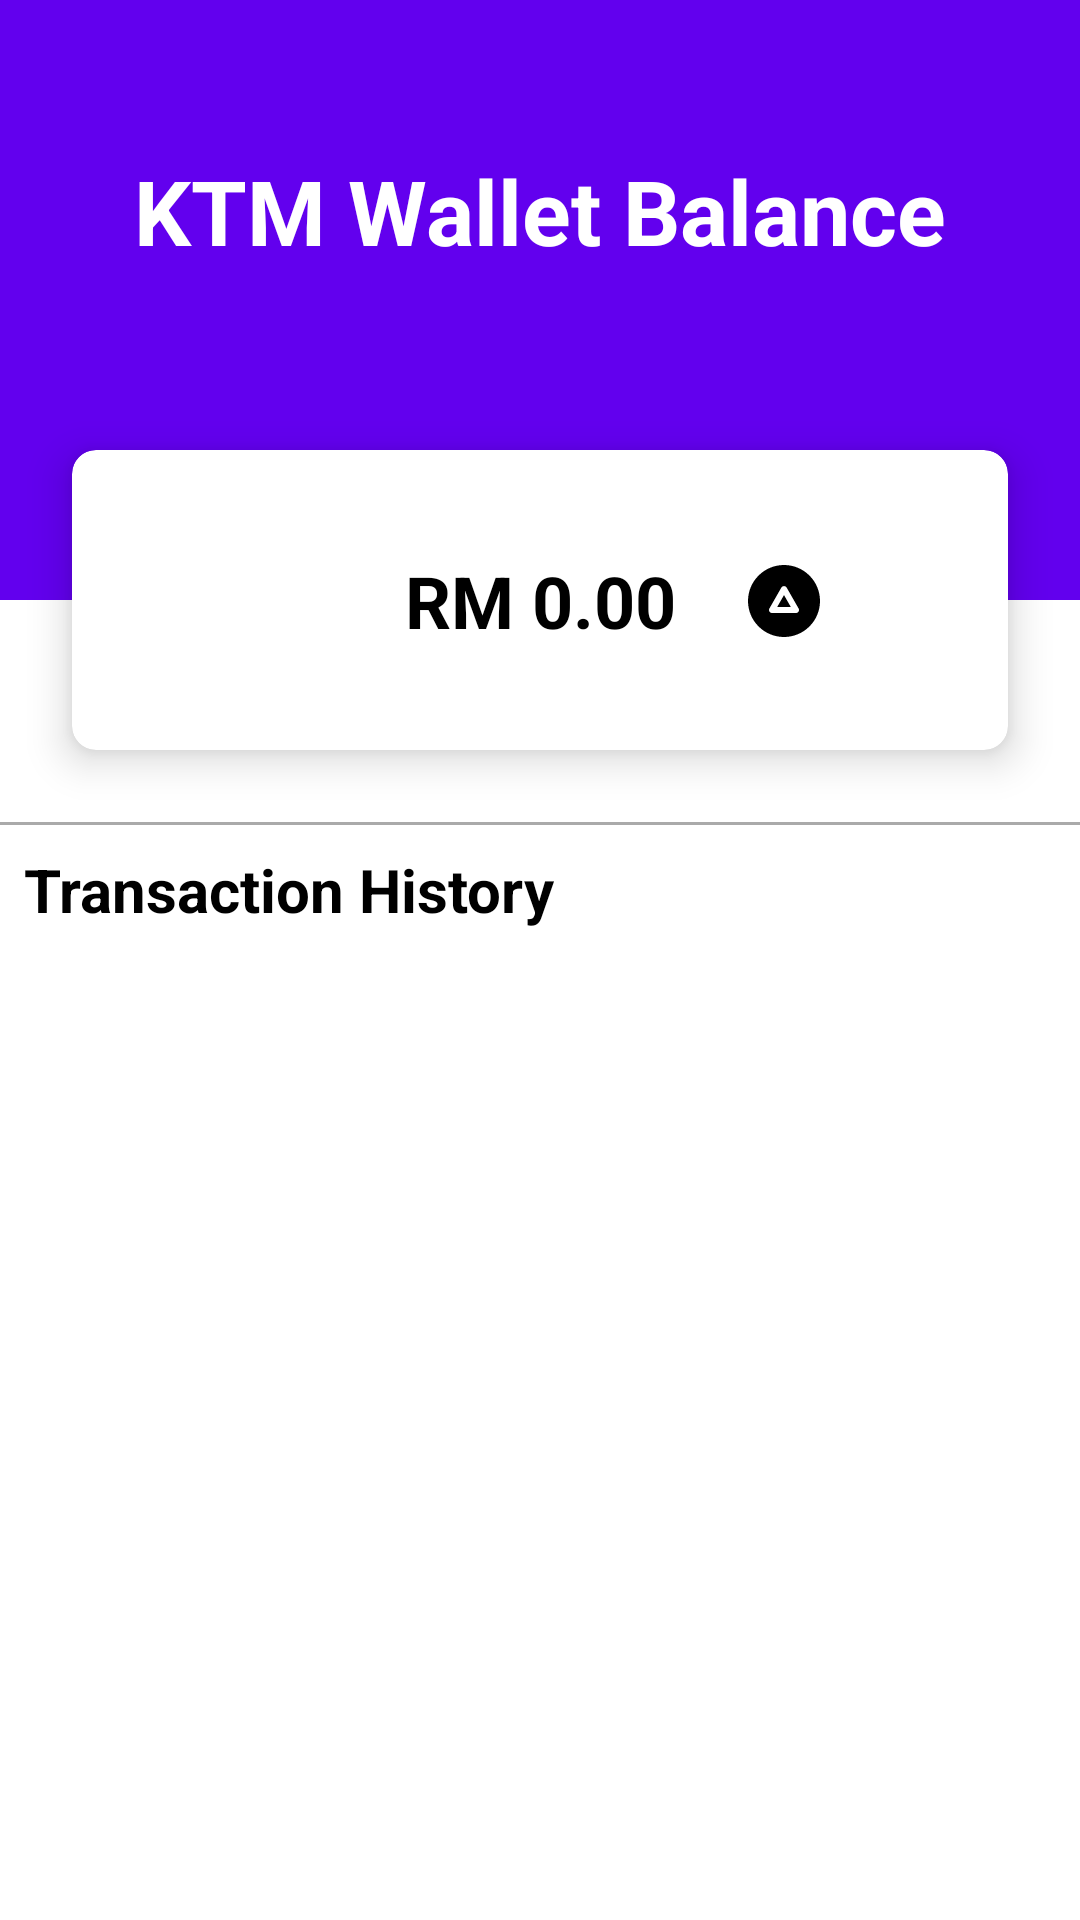

Icon click points for this 1080*1920 phone screenshot, format point (x, y):
up arrow multimedia option: point (784, 601)
